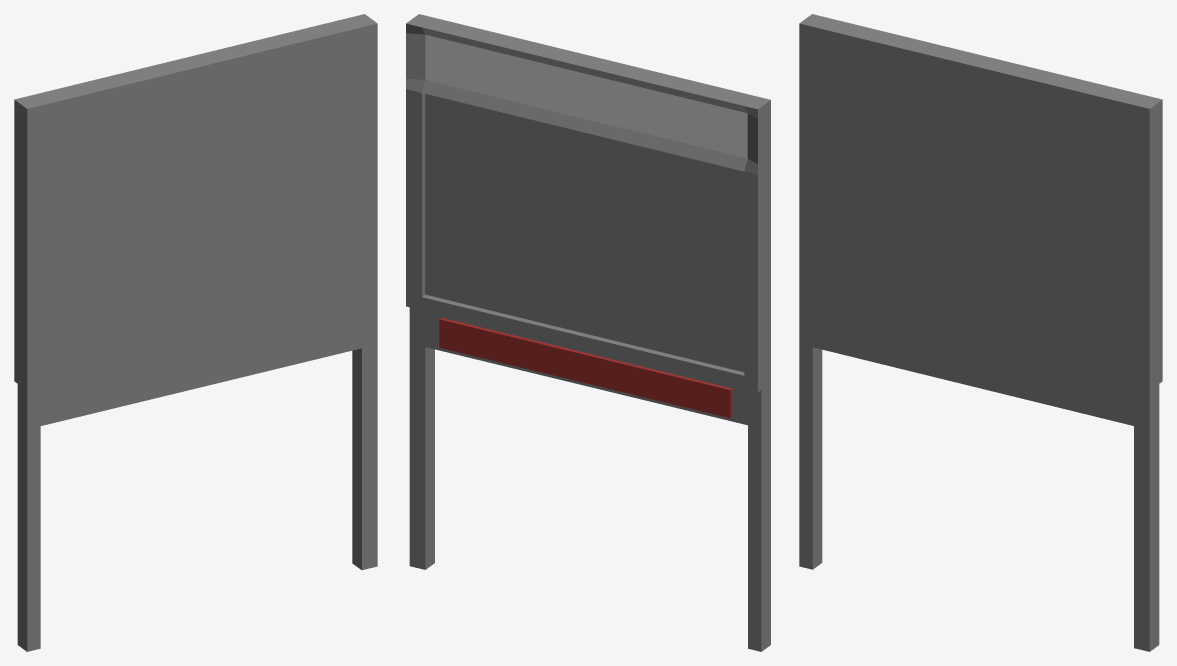
Rendered from memory_sign.fbx.
3 renders of one model, left to right at view 1: azimuth 30°, elevation 25°; view 2: azimuth 150°, elevation 25°; view 3: azimuth 330°, elevation 25°, orthographic.
Parts seen in each view (by area): view 1: memory_sign; view 2: memory_sign; view 3: memory_sign.
Boxes of the visible parts, <box> form: memory_sign: <box>14,14,377,651</box>; memory_sign: <box>406,14,770,651</box>; memory_sign: <box>799,14,1162,651</box>.
Bounding box in the file's own units: 149 × 221 × 9.56.
